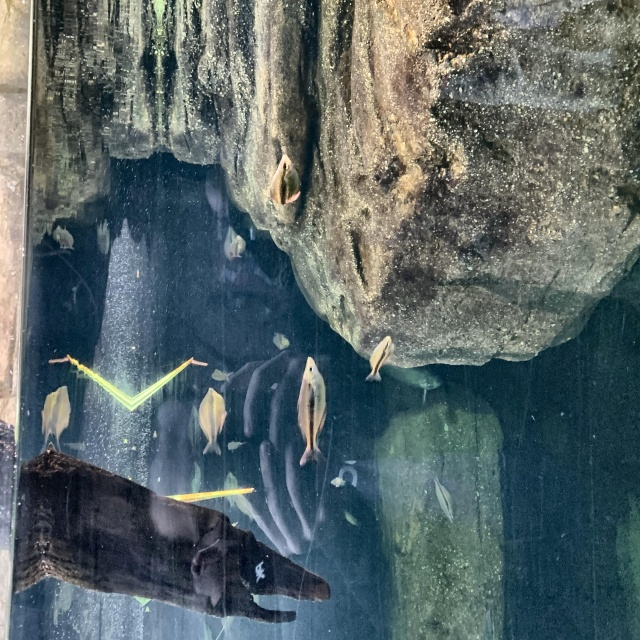fish: (294, 352, 333, 468), (268, 152, 305, 211), (38, 387, 75, 446), (361, 332, 399, 385), (197, 387, 226, 456), (433, 472, 460, 529), (223, 226, 246, 259), (95, 218, 113, 256)
